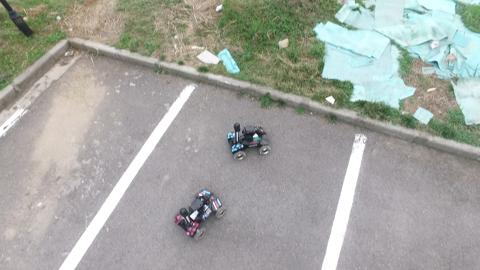chariot: (169, 185, 227, 243), (218, 120, 275, 165)
